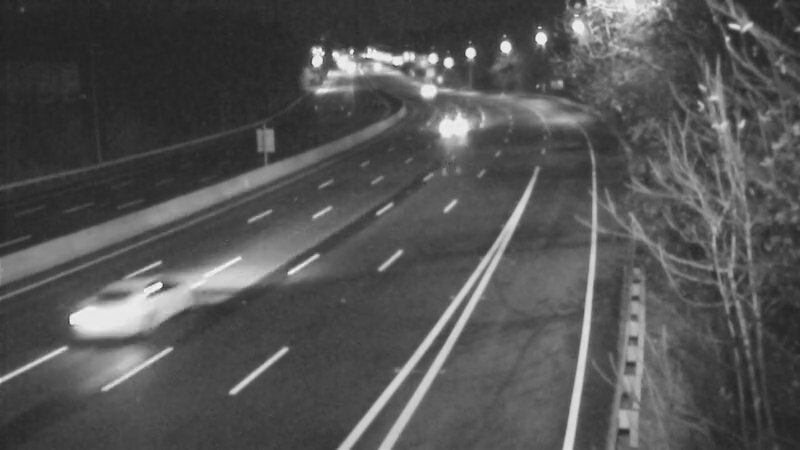vehicle: (60, 257, 170, 367), (401, 67, 451, 117), (435, 98, 485, 148)
